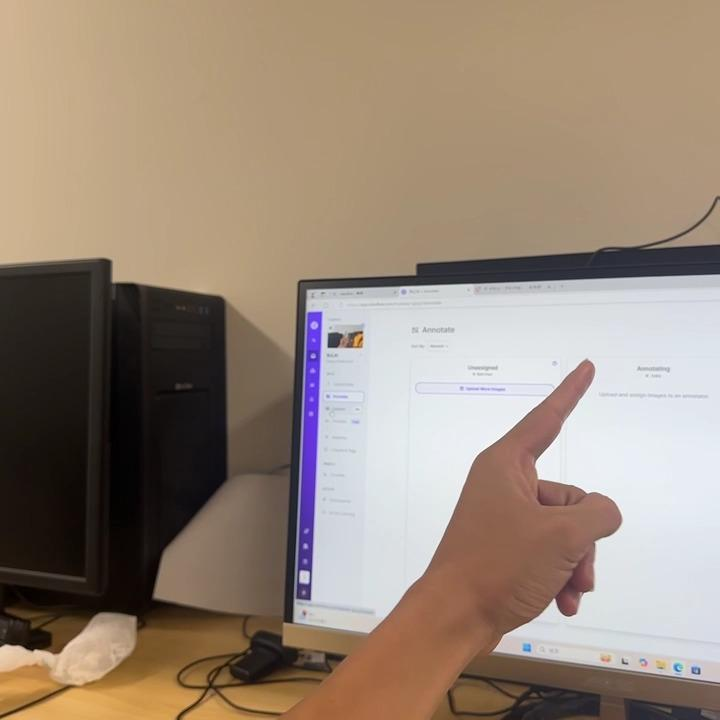without_gloves: (426, 344, 700, 682)
